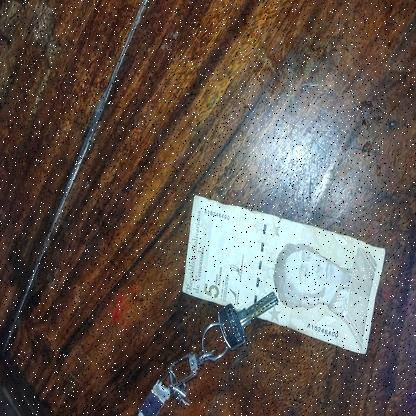five-front-vef: (182, 195, 385, 353)
